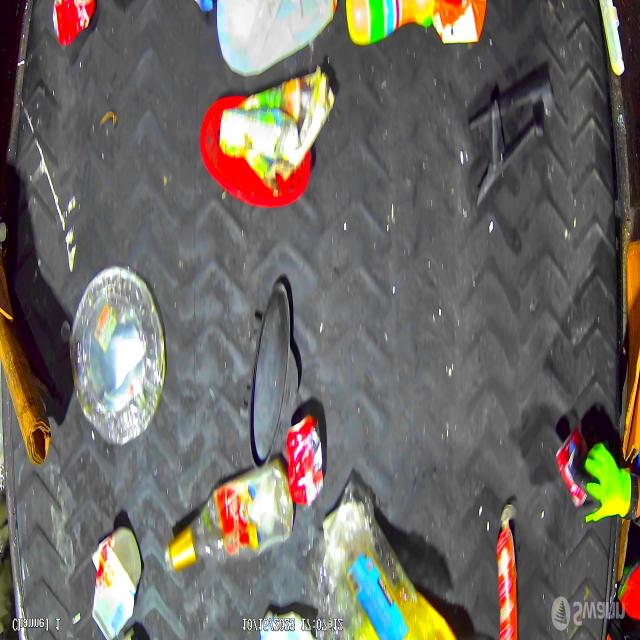can: (288, 421, 324, 504), (48, 0, 99, 46), (554, 438, 586, 506)
milk_jug: (211, 0, 338, 77)
plastic_bottle: (165, 461, 291, 586)
